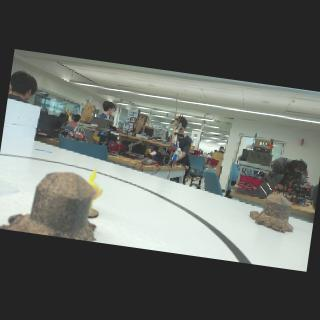teletubby: (87, 168, 102, 213)
